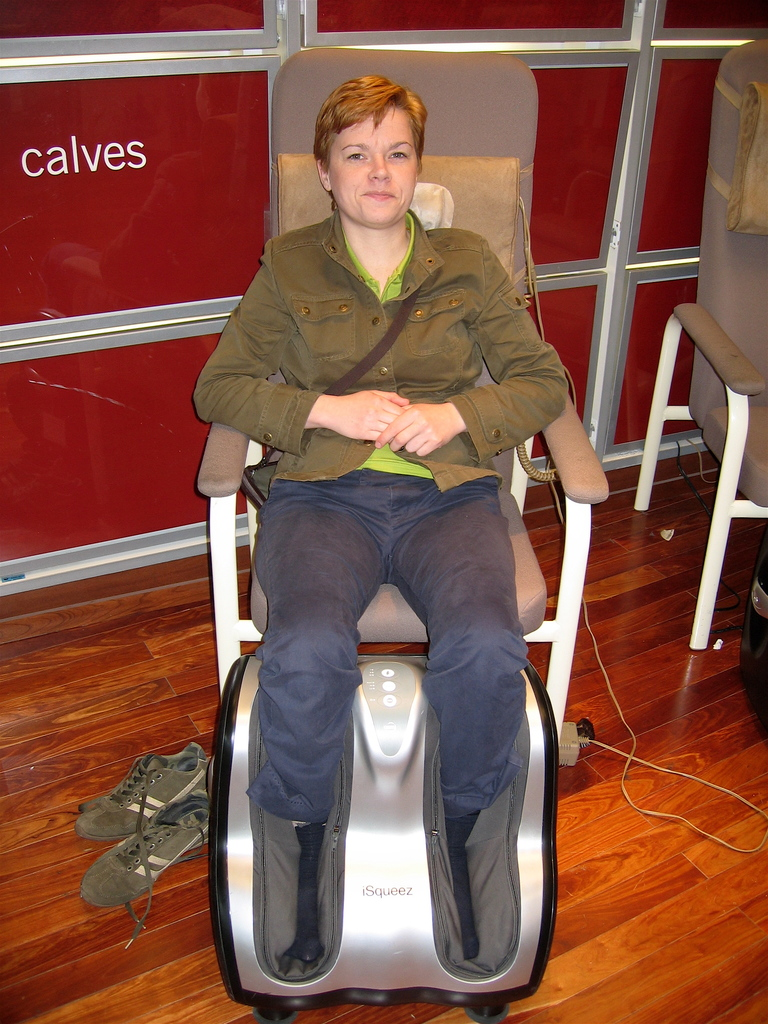Chair: (196, 38, 607, 1023), (632, 257, 747, 607)
